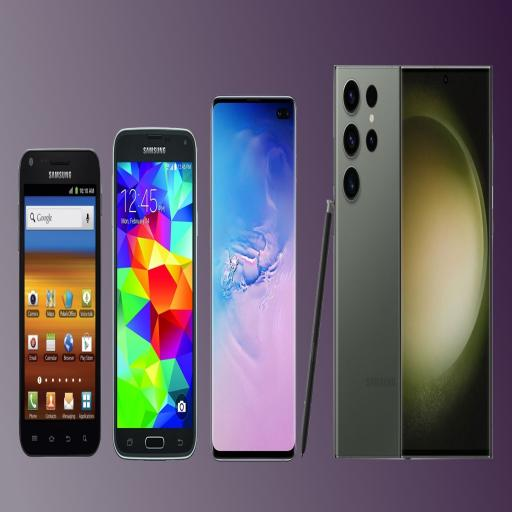phone: (209, 94, 302, 465)
